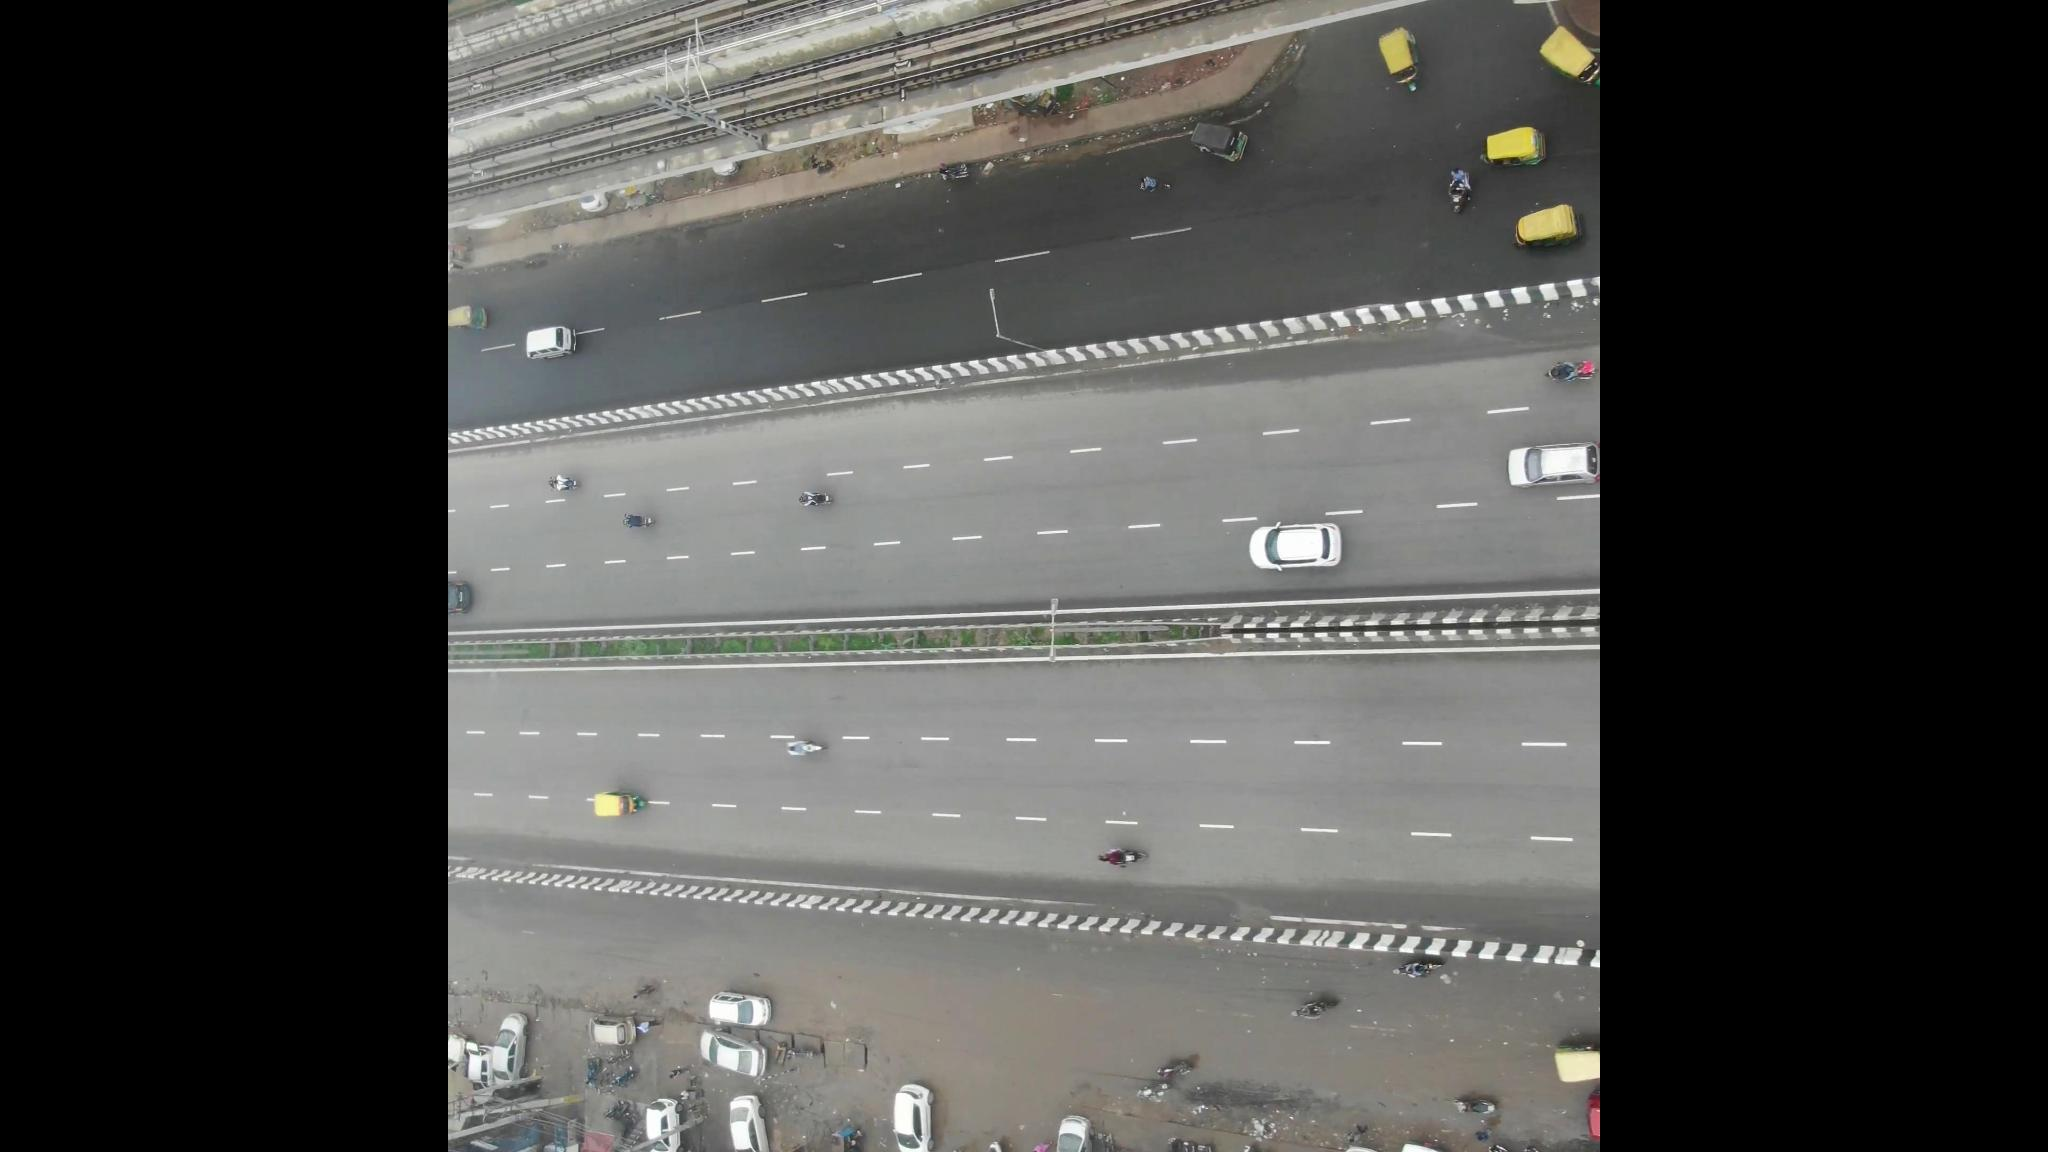Muddy_road: (1189, 1084, 1343, 1127)
